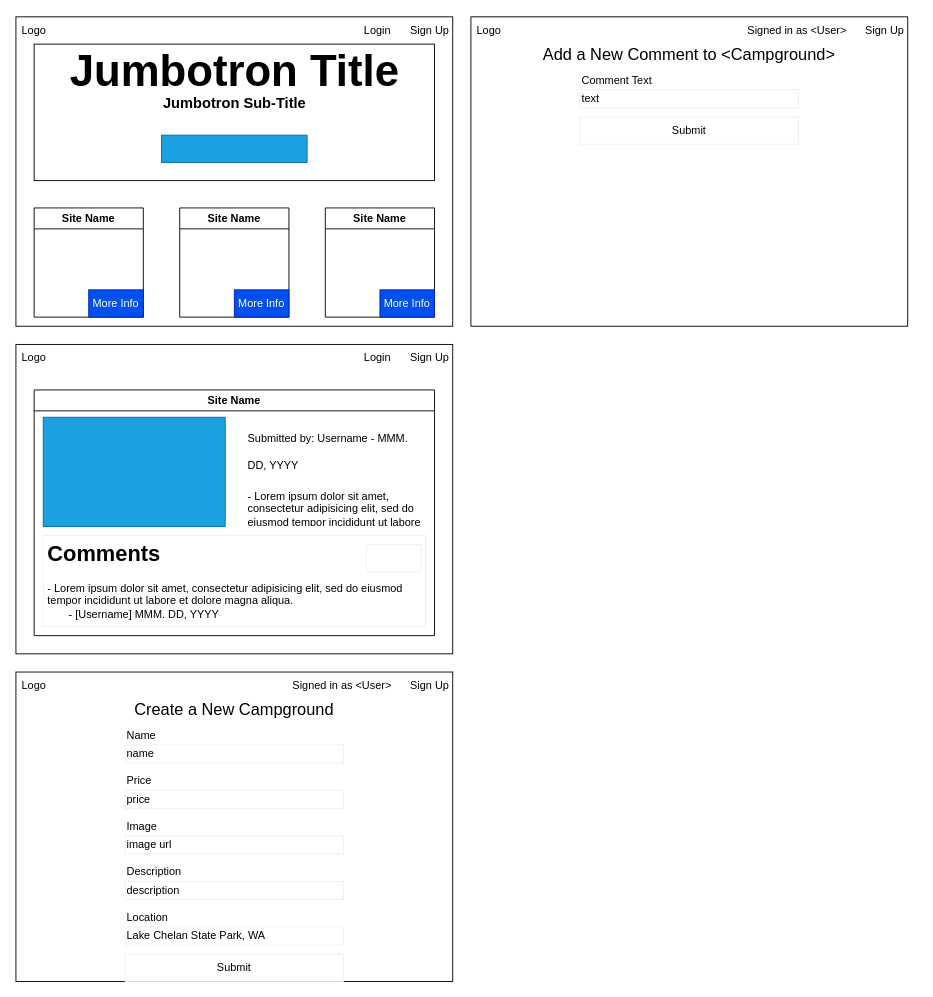
Some shapes in this 933 by 997 pixel diagram are drawn without their labels. The box of each missing label's shape, as (x1, y1, x2, y2) in pixels:
Add Comment: (365, 544, 421, 572)
Add New Campground: (161, 134, 307, 162)
Picture: (42, 416, 225, 526)
